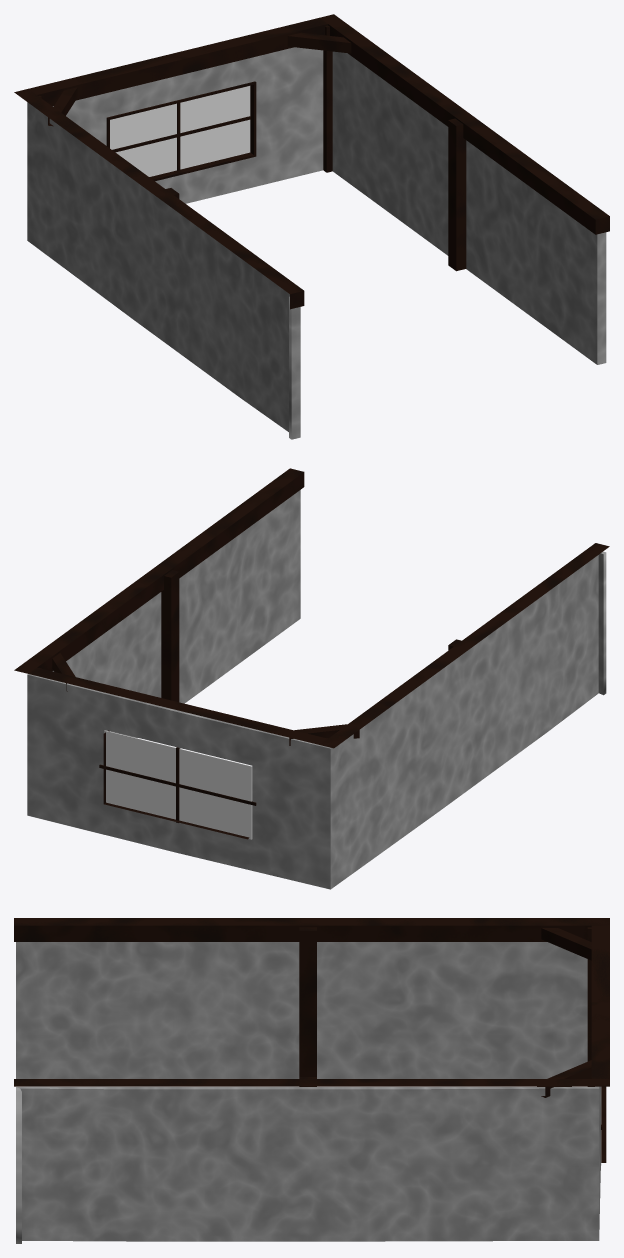
File: shopV5_6.fbx
3 views of the same model, one above another, from view 1: azimuth 30°, elevation 25°; view 2: azimuth 150°, elevation 25°; view 3: azimuth 270°, elevation 25° (orthographic). The views are drawn at different scales.
Parts seen in each view (by area): view 1: Cube, Wood, Window, Framuga; view 2: Cube, Wood, Window, Framuga; view 3: Cube, Wood, Framuga.
Boxes of the visible parts, bbox=[...] form: Cube: bbox=[27, 47, 606, 439]; Wood: bbox=[14, 14, 609, 309]; Window: bbox=[110, 86, 250, 176]; Framuga: bbox=[106, 81, 256, 181]; Cube: bbox=[27, 490, 606, 889]; Wood: bbox=[14, 468, 609, 748]; Window: bbox=[104, 730, 252, 839]; Framuga: bbox=[99, 730, 256, 839]; Cube: bbox=[16, 942, 600, 1243]; Wood: bbox=[14, 918, 609, 1097]; Framuga: bbox=[601, 1086, 606, 1162].
Size of the model in its own units: 683 by 300 by 1021.
